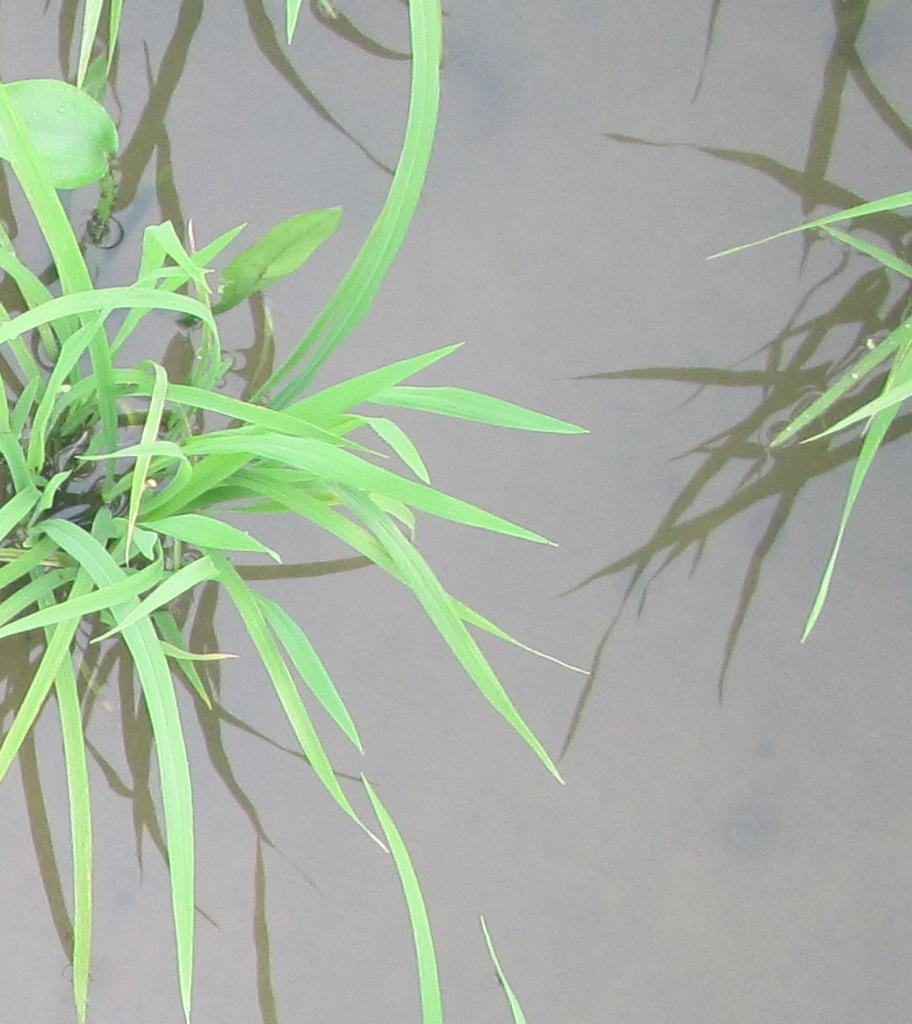Weed: (7, 71, 135, 202), (219, 208, 357, 302)
